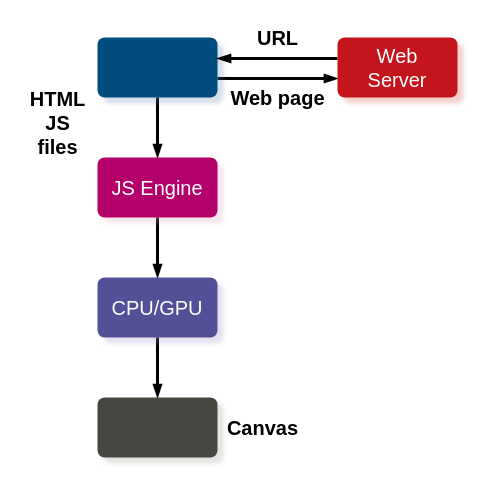
Image size: 484x484. Some labels were removed from this diagram. Each missing label, with the centre of its shape:
"Browser" belongs at point (160, 70).
"Framebuffer" belongs at point (160, 430).
